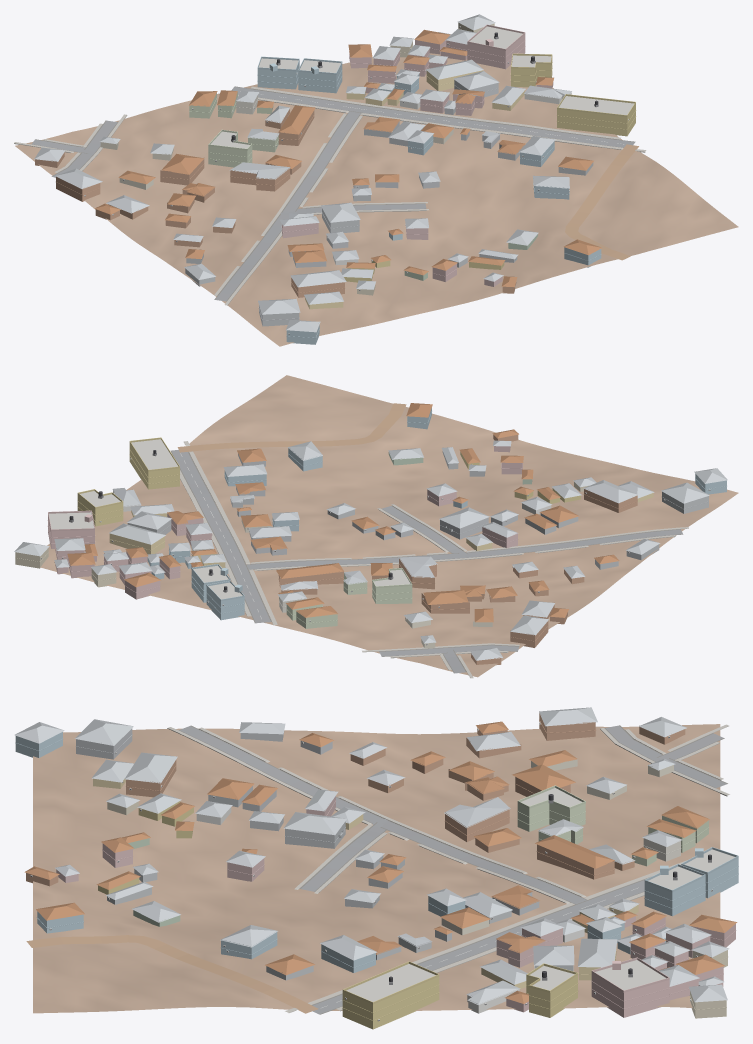
3 views of the same model, one above another, from view 1: azimuth 30°, elevation 25°; view 2: azimuth 150°, elevation 25°; view 3: azimuth 270°, elevation 25° (orthographic). The views are drawn at different scales.
Parts seen in each view (by area): view 1: Terrain-col, Buildings-col, Roads-col, Sidewalks-col, Details; view 2: Terrain-col, Buildings-col, Roads-col, Sidewalks-col, Details; view 3: Terrain-col, Buildings-col, Roads-col, Sidewalks-col, Details.
Part boxes in pixels (bbox=[...]): Terrain-col: bbox=[15, 53, 738, 346]; Buildings-col: bbox=[34, 14, 635, 344]; Roads-col: bbox=[31, 86, 638, 301]; Sidewalks-col: bbox=[14, 86, 646, 305]; Details: bbox=[56, 24, 636, 338]; Terrain-col: bbox=[40, 375, 738, 677]; Buildings-col: bbox=[14, 403, 727, 665]; Roads-col: bbox=[170, 403, 683, 673]; Sidewalks-col: bbox=[180, 441, 688, 678]; Details: bbox=[15, 411, 726, 654]; Terrain-col: bbox=[33, 724, 720, 1013]; Buildings-col: bbox=[14, 707, 738, 1029]; Roads-col: bbox=[26, 725, 727, 1014]; Sidewalks-col: bbox=[167, 724, 729, 1012]; Details: bbox=[15, 720, 738, 1021].
Bounding box in the file's own units: 277 × 21.44 × 270.
